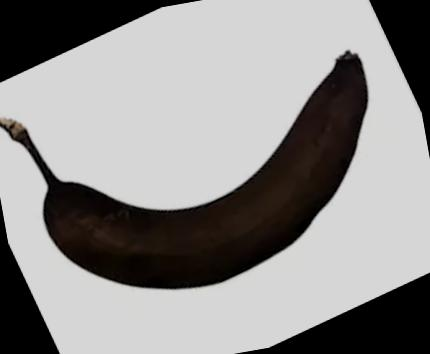Banana Overripe: (0, 25, 430, 339)
